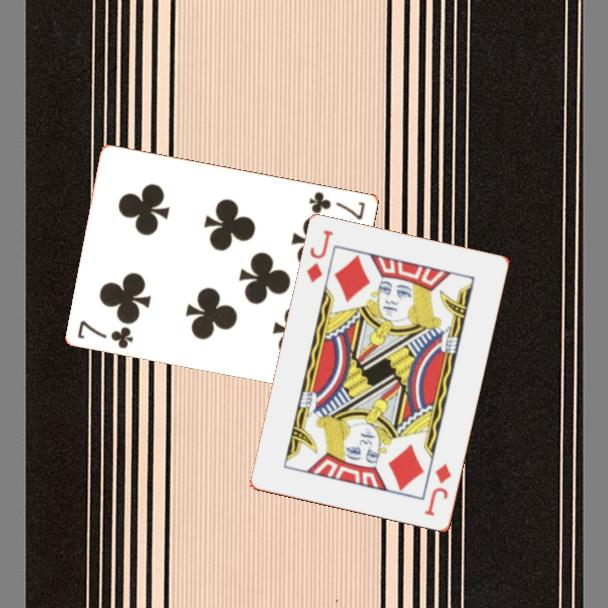c07: (306, 188, 368, 223), (74, 317, 136, 351)
d11: (421, 460, 455, 519), (303, 227, 337, 286)
